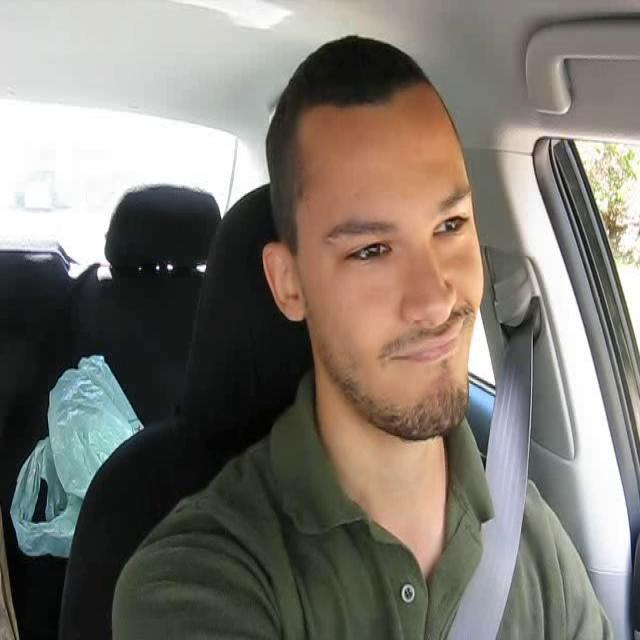close: (382, 326, 477, 366)
